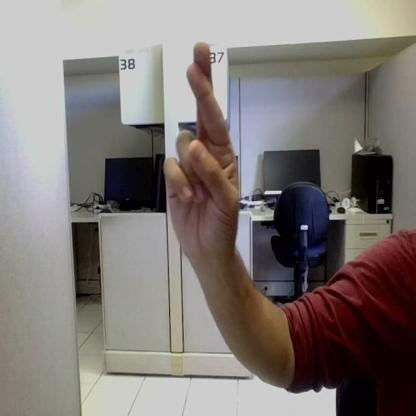R: (165, 44, 237, 251)
